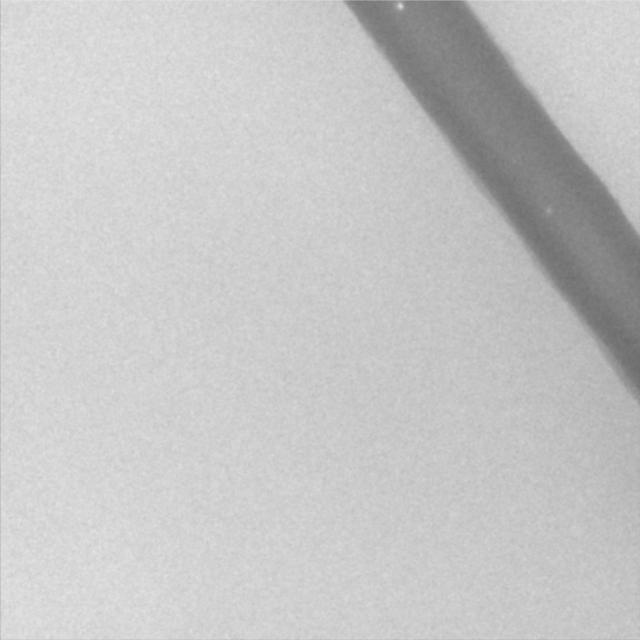air hole: (396, 2, 404, 10)
